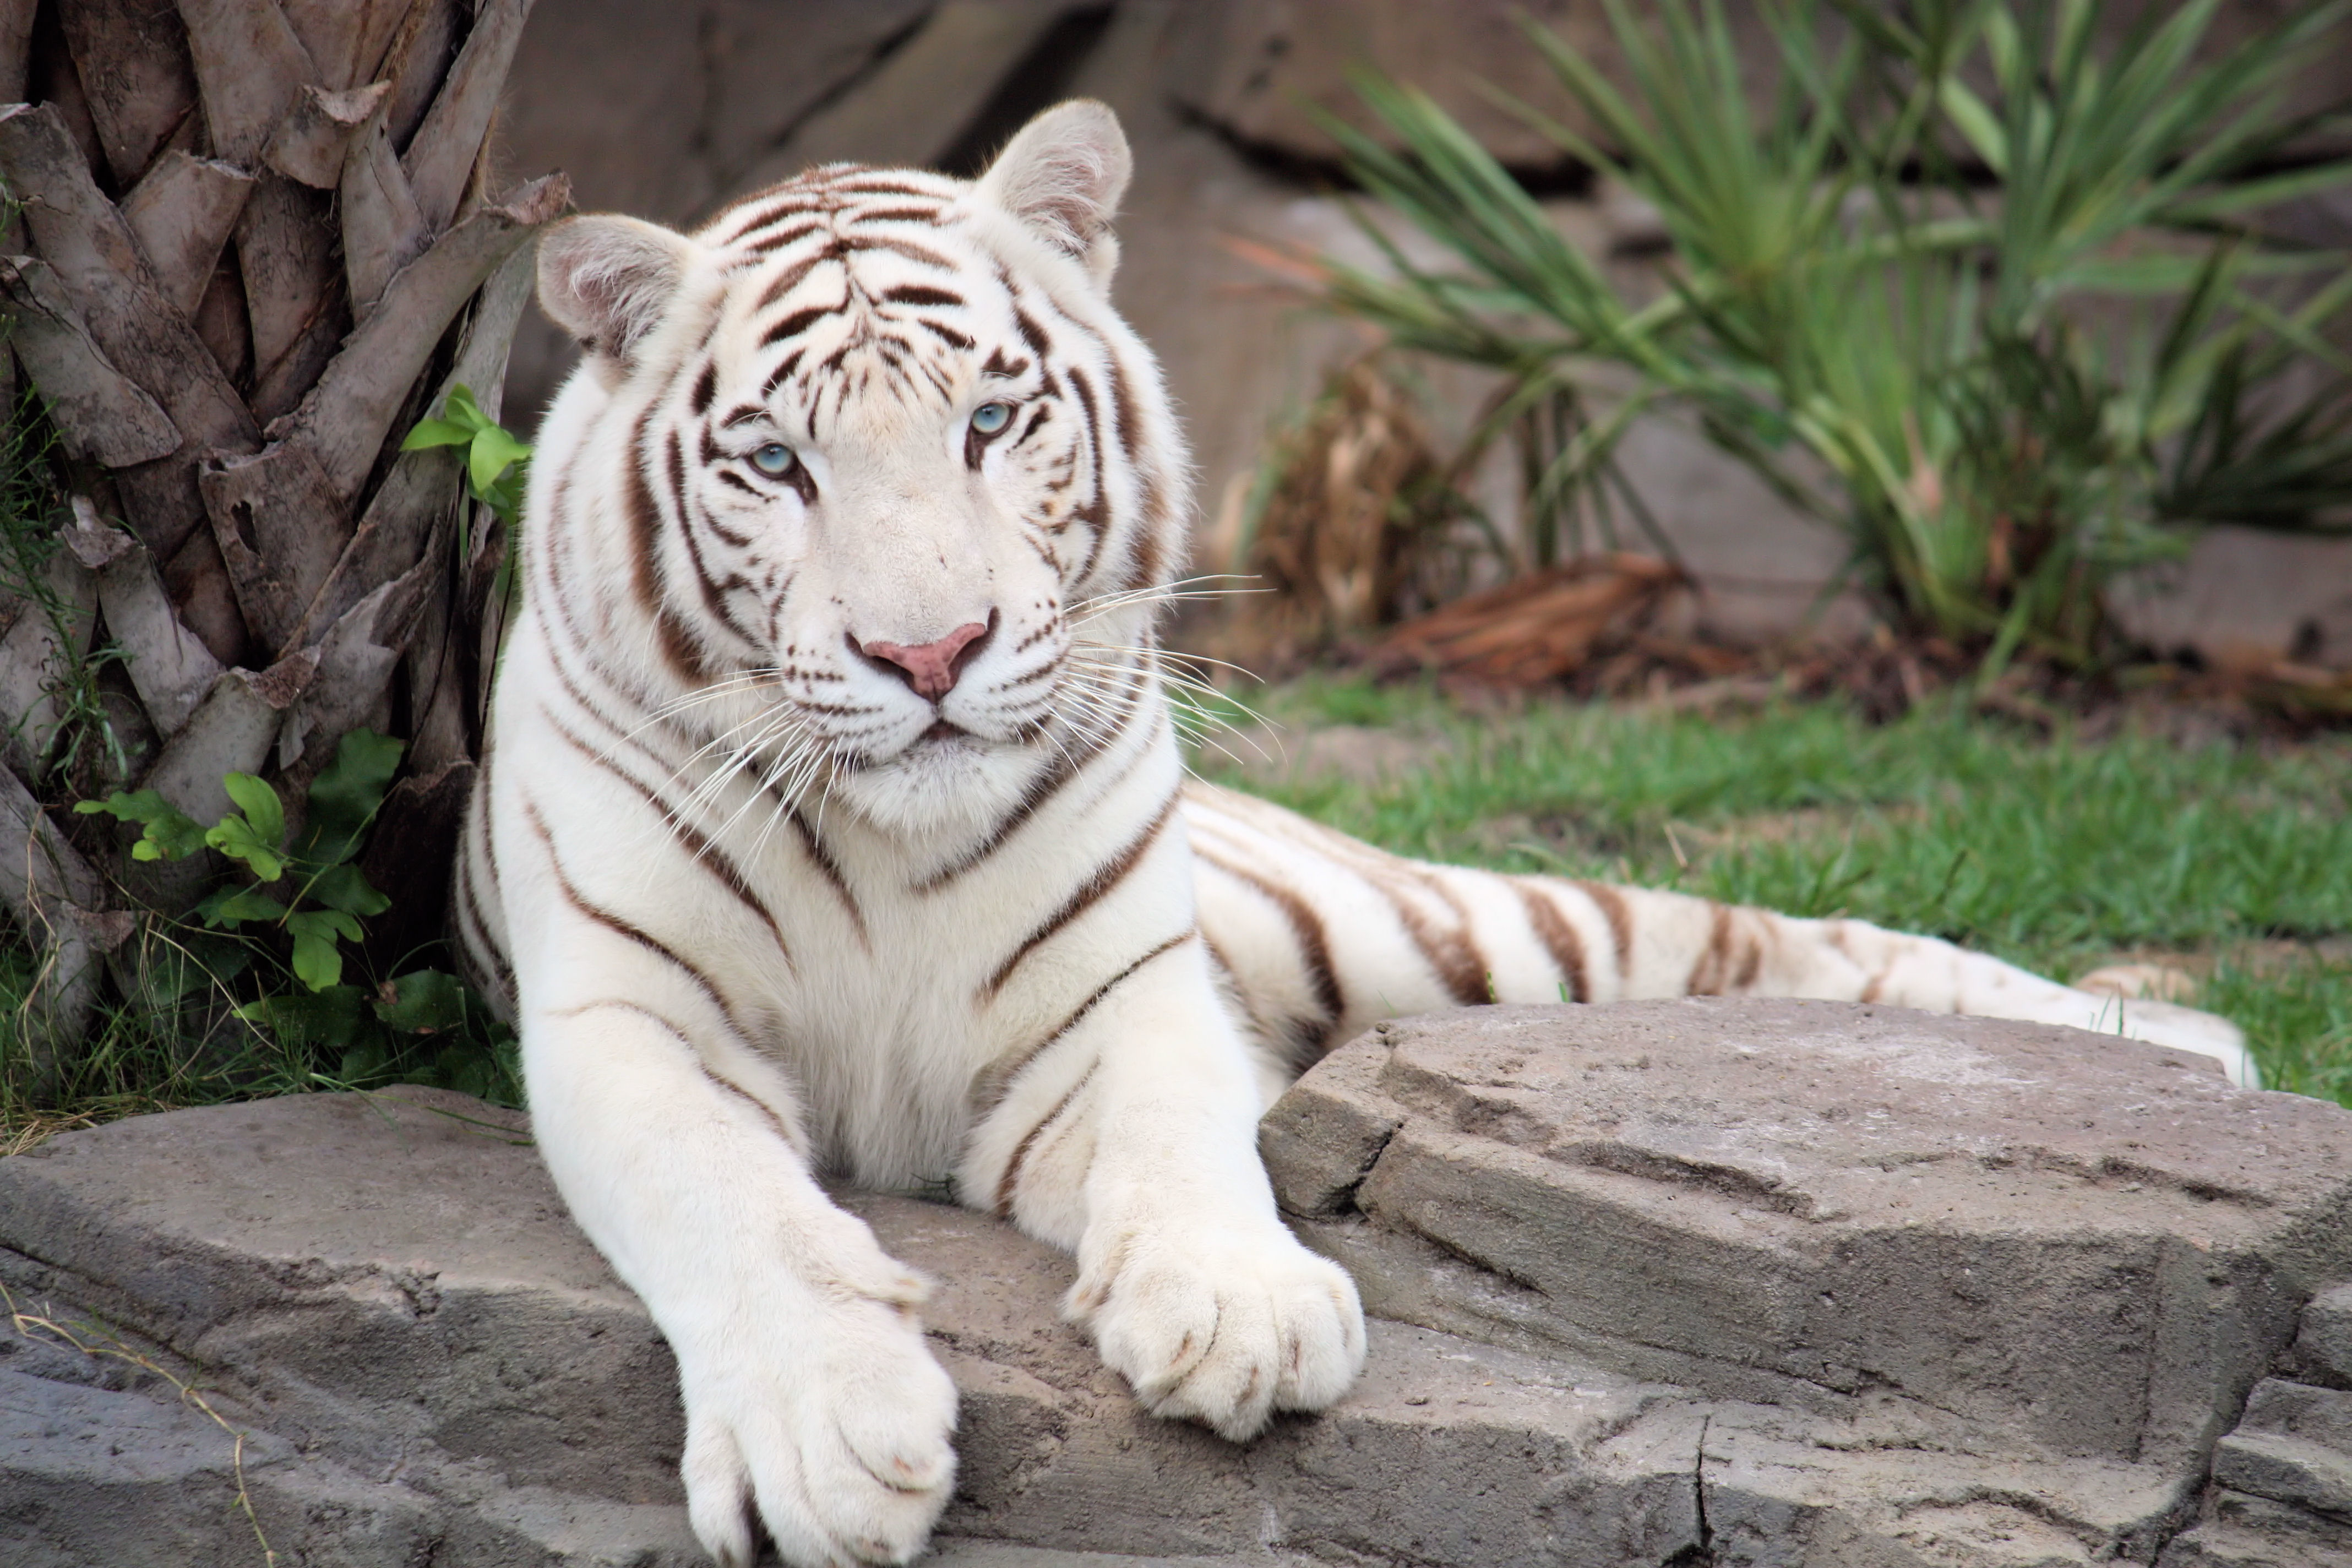tiger: (310, 79, 1981, 1288)
